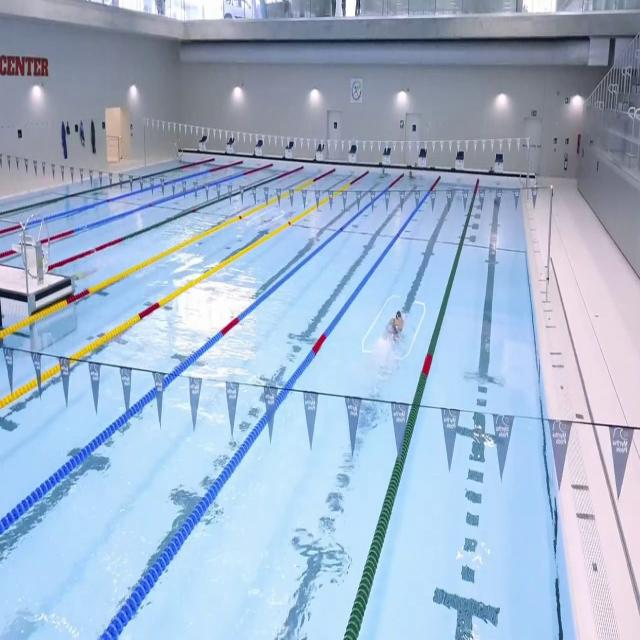Swimming: (386, 311, 406, 345)
